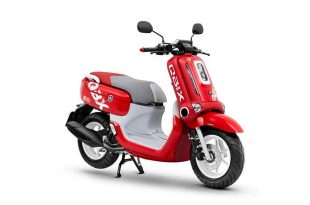motorcycle: (72, 41, 247, 189)
